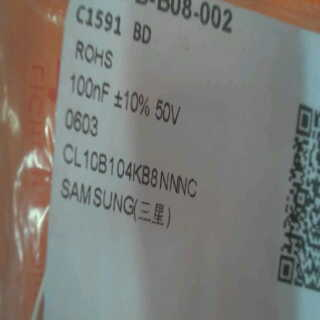100nF: (63, 71, 115, 105)
